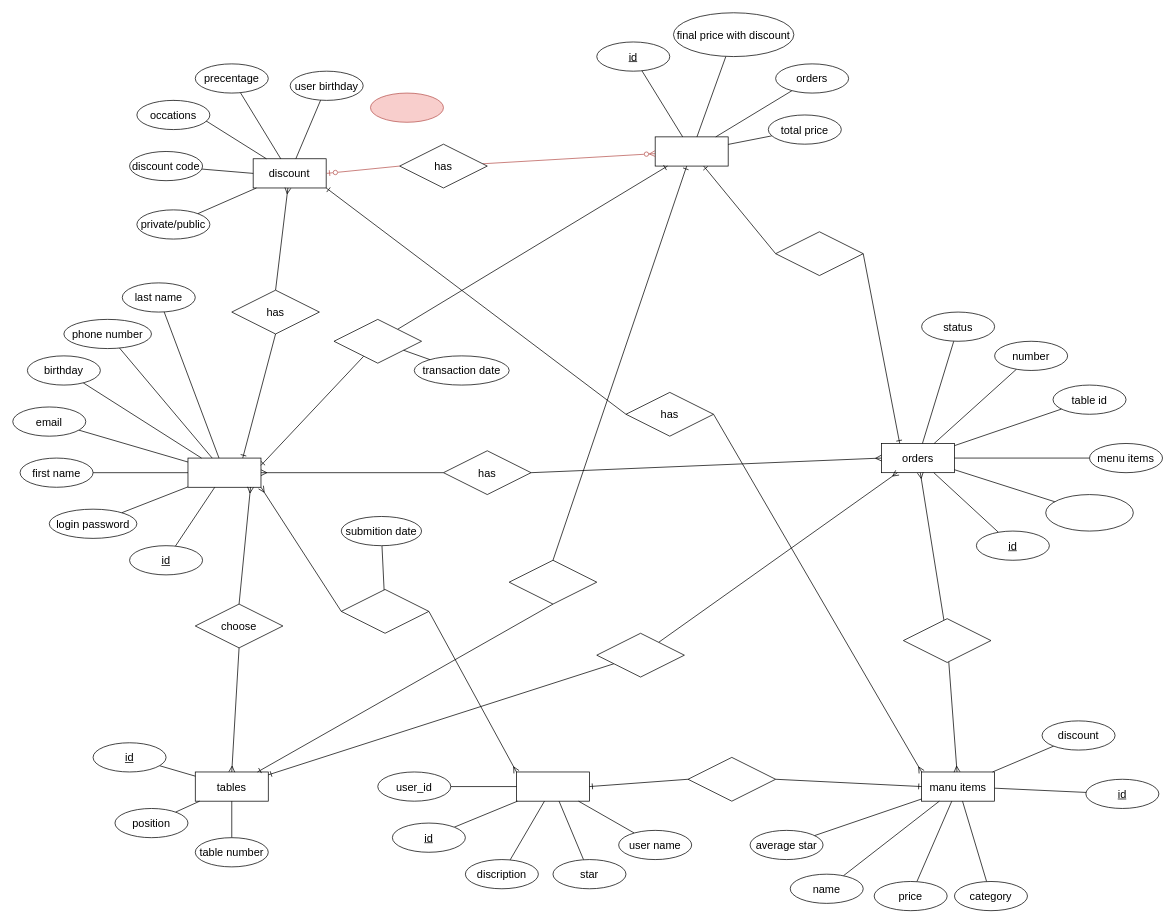
The diagram is 1175 pixels wide and 923 high, and some of its shapes have lost their labels. Each missing label, with the centre of its shape:
"comment" goes at [552,786].
"contains" goes at [947,640].
"execute" goes at [819,253].
"is about" goes at [731,779].
"item key" goes at [406,107].
"pays" goes at [377,341].
"reciepts" goes at [691,151].
"relates to" goes at [552,582].
"serving time period" goes at [1089,512].
"submit" goes at [385,611].
"takes" goes at [640,655].
"users" goes at [224,472].
